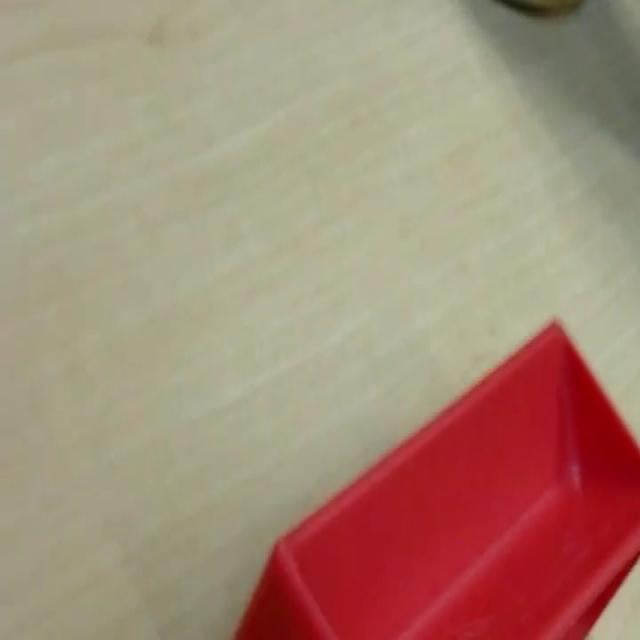red_block: (231, 315, 639, 637)
